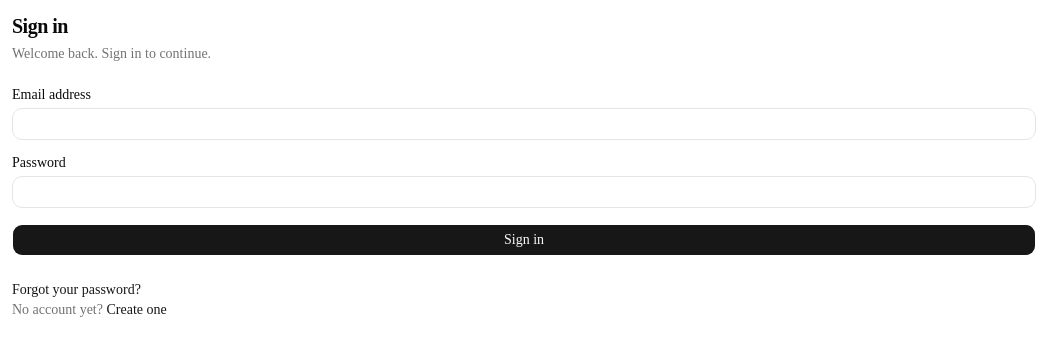
Test: SignInForm › requires a password to be typed
In the field labelled "Email address": [524, 124] box [12,108,1036,140], type "ada@example.com"
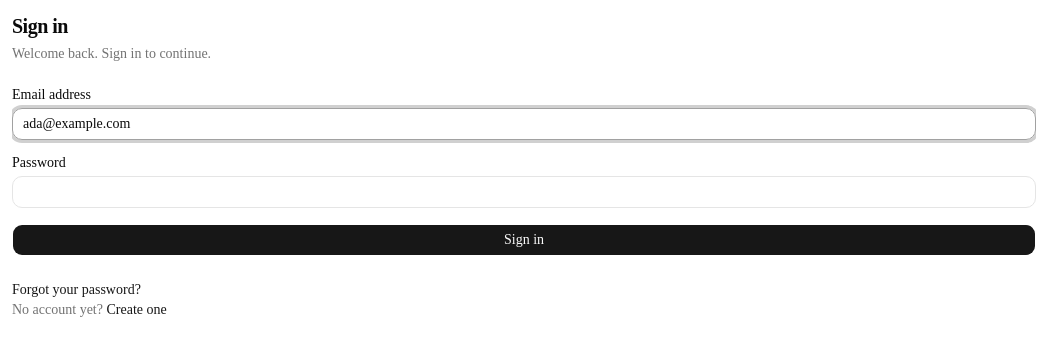
Click the button "Sign in": [524, 240] box [12,224,1036,256]
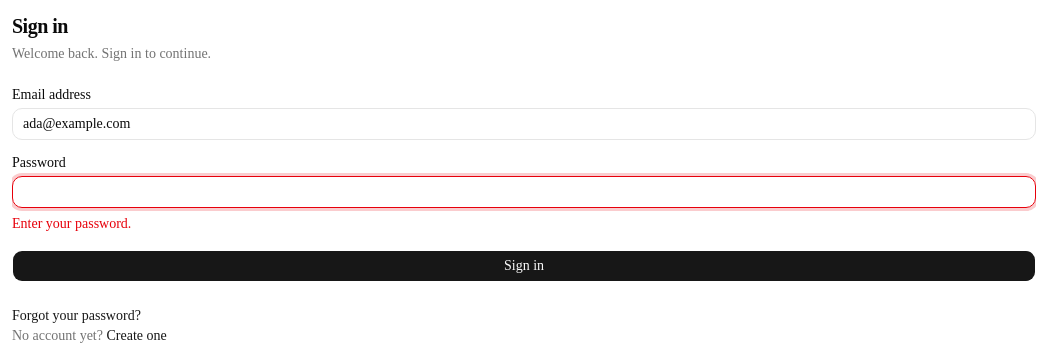
Result: the text "Enter your password." is shown at [12,216,131,231]
